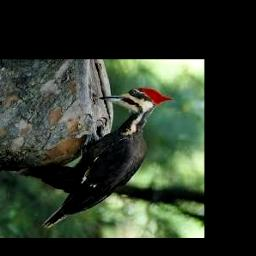Woodpecker: (41, 88, 173, 227)
